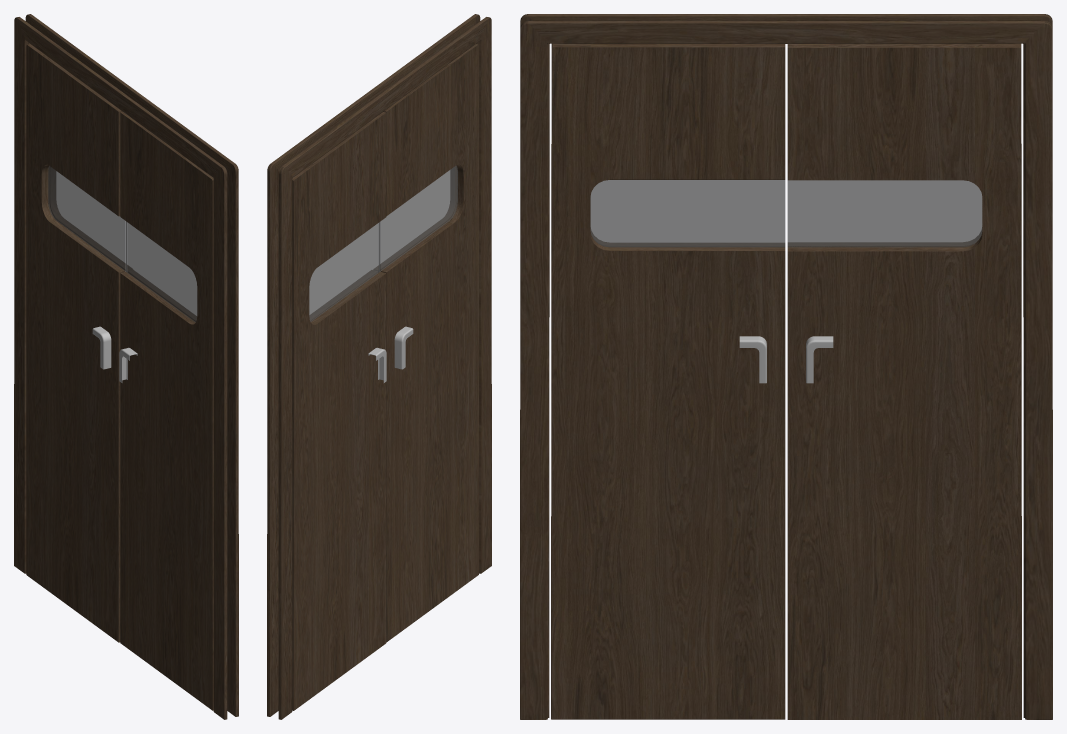
The model's file is DoorBig. Closed.glb.
3 renders of one model, left to right at view 1: azimuth 30°, elevation 25°; view 2: azimuth 150°, elevation 25°; view 3: azimuth 270°, elevation 25°, orthographic. The views are drawn at different scales.
Visible parts, largest first — view 1: door_big_R, door_big_L, door_big_box, win_big_r, win_big_L, hande_big_R; view 2: door_big_R, door_big_L, door_big_box, win_big_L, win_big_r, hande_big_L; view 3: door_big_R, door_big_L, door_big_box, win_big_L, win_big_r.
Part boxes in pixels (x1,y1,x2,y2): door_big_R: (26, 44, 132, 642); door_big_L: (120, 112, 213, 710); door_big_box: (14, 14, 238, 719); win_big_r: (48, 166, 126, 271); win_big_L: (126, 221, 197, 322); hande_big_R: (92, 326, 111, 369); door_big_R: (292, 112, 386, 710); door_big_L: (373, 44, 478, 642); door_big_box: (267, 14, 491, 719); win_big_L: (379, 165, 457, 271); win_big_r: (309, 222, 379, 321); hande_big_L: (394, 326, 413, 369); door_big_R: (787, 43, 1021, 719); door_big_L: (551, 43, 785, 719); door_big_box: (520, 14, 1052, 719); win_big_L: (590, 180, 785, 247); win_big_r: (787, 180, 982, 247).
Bounding box in the file's own units: 0.115 × 1.97 × 1.36.
Materials: 3 (3 with a texture image).
